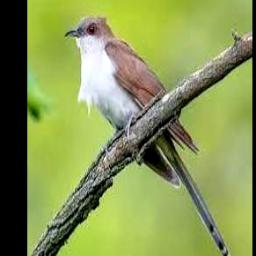Cuckoo: (65, 16, 230, 256)
